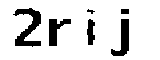2: (13, 6, 44, 50)
i: (81, 5, 101, 47)
j: (110, 5, 137, 59)
r: (46, 14, 76, 50)
